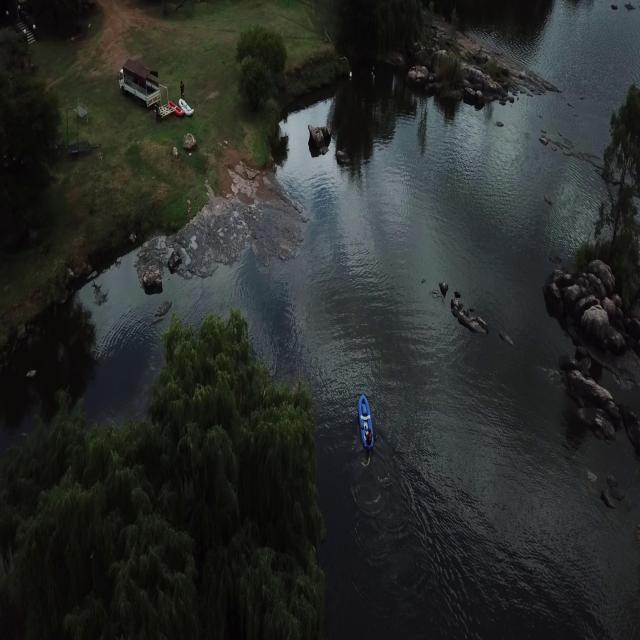kayak: (353, 394, 377, 445)
